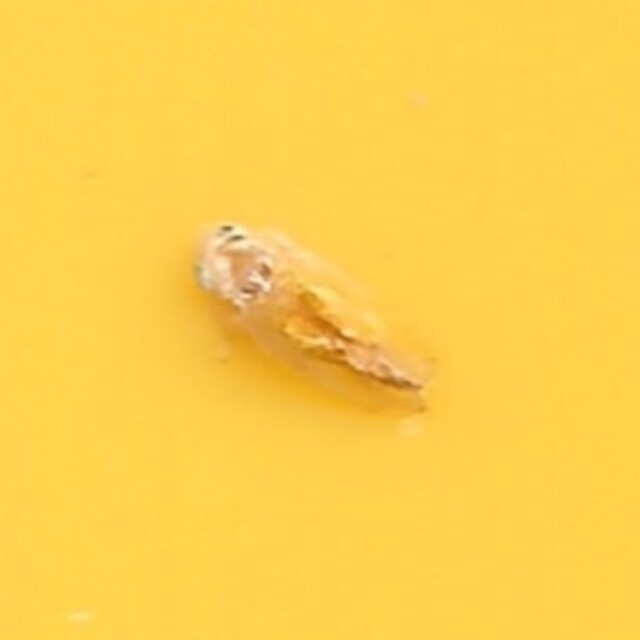Hemiptera: (189, 204, 451, 436)
